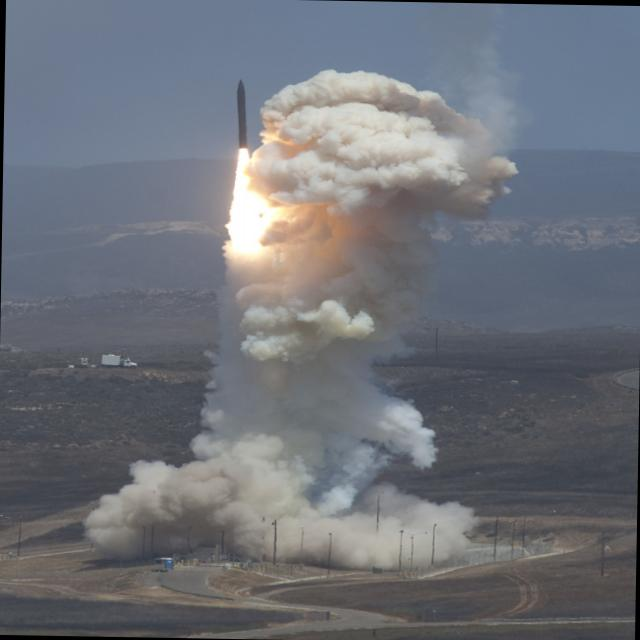rocket: (225, 80, 280, 290)
